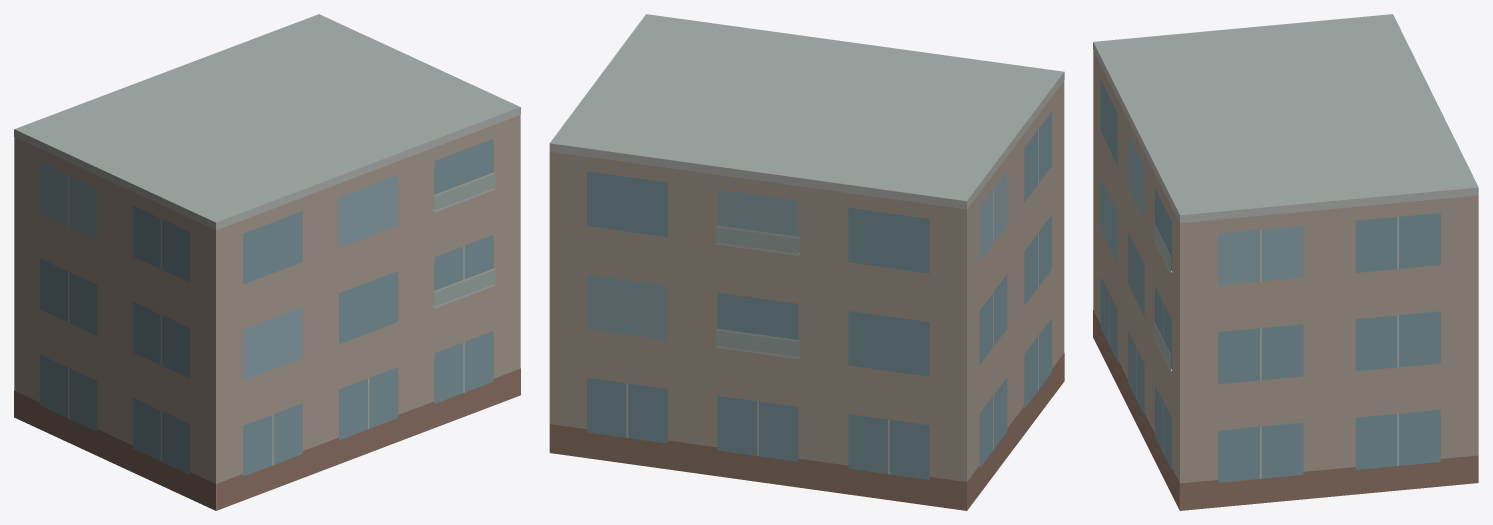
The model's file is survey-upis-32615354.glb.
The picture shows the model from 3 angles, left to right: view 1: azimuth 30°, elevation 25°; view 2: azimuth 150°, elevation 25°; view 3: azimuth 270°, elevation 25°; orthographic projection. The views are drawn at different scales.
Visible parts, largest first — view 1: survey-upis-32615354.tmp; view 2: survey-upis-32615354.tmp; view 3: survey-upis-32615354.tmp.
Boxes of the visible parts, x1,y1,x2,y2 form: survey-upis-32615354.tmp: (14, 14, 520, 510); survey-upis-32615354.tmp: (549, 14, 1064, 510); survey-upis-32615354.tmp: (1093, 14, 1478, 510).
Bounding box in the file's own units: 13.38 × 9.15 × 10.83.
